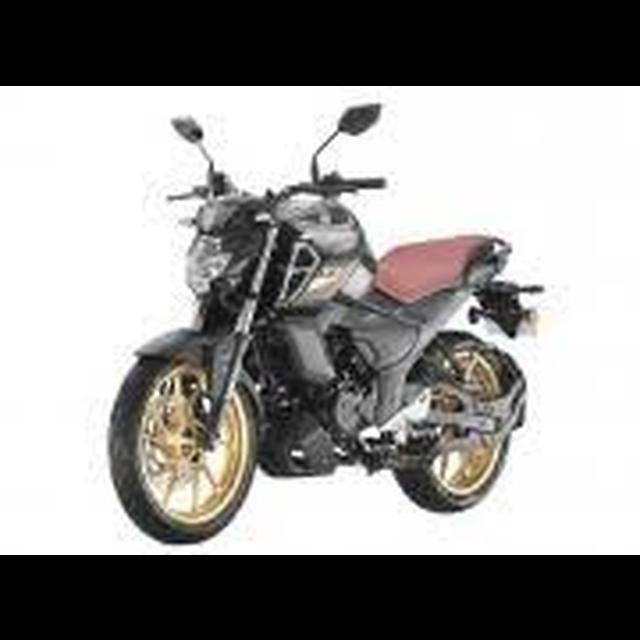motorcycle: (107, 99, 545, 548)
